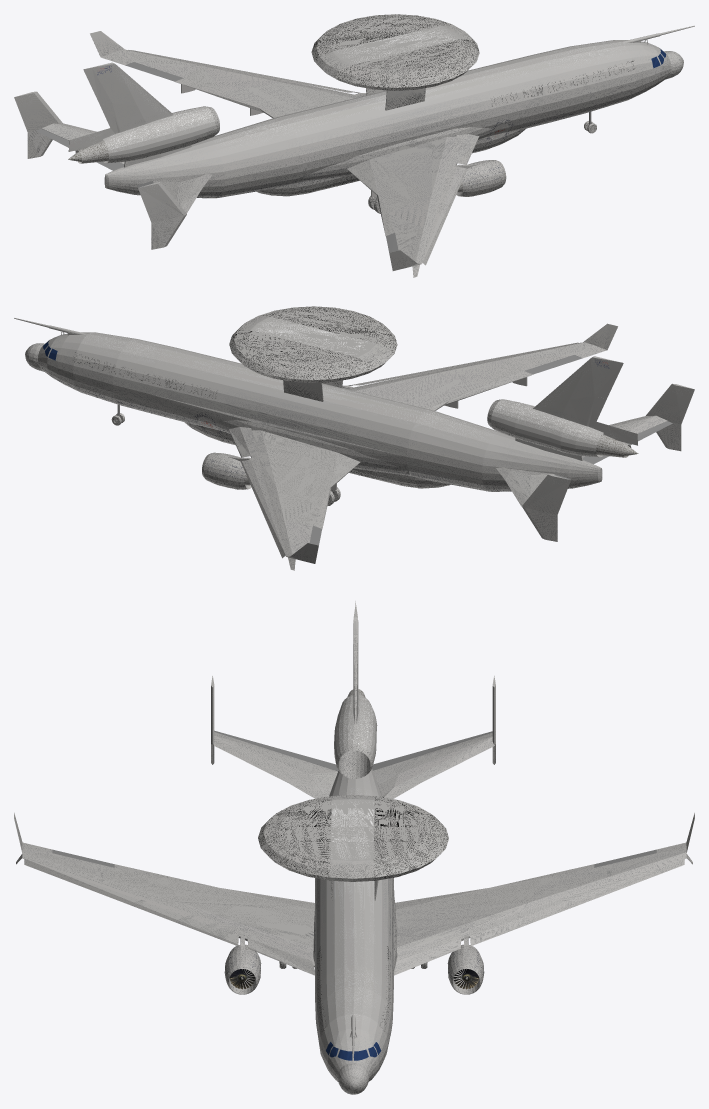
3 views of the same model, one above another, from view 1: azimuth 30°, elevation 25°; view 2: azimuth 150°, elevation 25°; view 3: azimuth 270°, elevation 25° (orthographic). The views are drawn at different scales.
Visible parts, largest first — view 1: mesh40_mesh40-geometry, mesh45_mesh45-geometry, mesh31_mesh31-geometry, mesh38_mesh38-geometry, mesh27_mesh27-geometry, mesh44.001_mesh44-geometry, mesh42.001_mesh42-geometry, mesh25_mesh25-geometry, mesh48_mesh48-geometry, mesh33_mesh33-geometry, mesh46_mesh46-geometry, mesh34_mesh34-geometry (+2 smaller); view 2: mesh40_mesh40-geometry, mesh45_mesh45-geometry, mesh27_mesh27-geometry, mesh38_mesh38-geometry, mesh31_mesh31-geometry, mesh42.001_mesh42-geometry, mesh44.001_mesh44-geometry, mesh25_mesh25-geometry, mesh28_mesh28-geometry, mesh48_mesh48-geometry, mesh29_mesh29-geometry, mesh47_mesh47-geometry (+2 smaller); view 3: mesh40_mesh40-geometry, mesh45_mesh45-geometry, mesh31_mesh31-geometry, mesh27_mesh27-geometry, mesh25_mesh25-geometry, mesh38_mesh38-geometry, mesh33_mesh33-geometry, mesh28_mesh28-geometry, mesh34_mesh34-geometry, mesh29_mesh29-geometry, mesh49_mesh49-geometry.
Boxes of the visible parts, x1,y1,x2,y2 form: mesh40_mesh40-geometry: (104, 40, 671, 198); mesh45_mesh45-geometry: (311, 14, 479, 90); mesh31_mesh31-geometry: (347, 137, 506, 277); mesh38_mesh38-geometry: (68, 62, 219, 167); mesh27_mesh27-geometry: (90, 31, 366, 118); mesh44.001_mesh44-geometry: (138, 182, 186, 249); mesh42.001_mesh42-geometry: (14, 91, 62, 158); mesh25_mesh25-geometry: (41, 123, 212, 213); mesh48_mesh48-geometry: (257, 128, 525, 196); mesh33_mesh33-geometry: (419, 166, 467, 265); mesh46_mesh46-geometry: (385, 88, 425, 110); mesh34_mesh34-geometry: (448, 134, 479, 164); mesh40_mesh40-geometry: (38, 332, 602, 491); mesh45_mesh45-geometry: (229, 306, 397, 382); mesh27_mesh27-geometry: (202, 430, 360, 570); mesh38_mesh38-geometry: (487, 356, 637, 460); mesh31_mesh31-geometry: (342, 323, 617, 410); mesh42.001_mesh42-geometry: (522, 474, 570, 541); mesh44.001_mesh44-geometry: (646, 383, 694, 451); mesh25_mesh25-geometry: (496, 415, 671, 513); mesh28_mesh28-geometry: (241, 459, 289, 558); mesh48_mesh48-geometry: (185, 422, 450, 488); mesh29_mesh29-geometry: (229, 427, 259, 457); mesh47_mesh47-geometry: (283, 380, 323, 401); mesh40_mesh40-geometry: (313, 769, 397, 1081); mesh45_mesh45-geometry: (258, 795, 448, 881); mesh31_mesh31-geometry: (14, 812, 314, 994); mesh27_mesh27-geometry: (395, 812, 694, 994); mesh25_mesh25-geometry: (214, 732, 494, 798); mesh38_mesh38-geometry: (334, 604, 377, 778); mesh33_mesh33-geometry: (24, 855, 239, 945); mesh28_mesh28-geometry: (469, 855, 684, 945); mesh34_mesh34-geometry: (247, 930, 314, 975); mesh29_mesh29-geometry: (394, 930, 461, 975); mesh49_mesh49-geometry: (337, 1063, 369, 1094).
Bounding box in the file's own units: 0.752 × 0.2132 × 0.6237.
11 materials, 2 textured.
